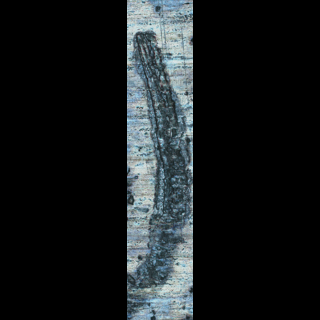d: (129, 27, 193, 313)
